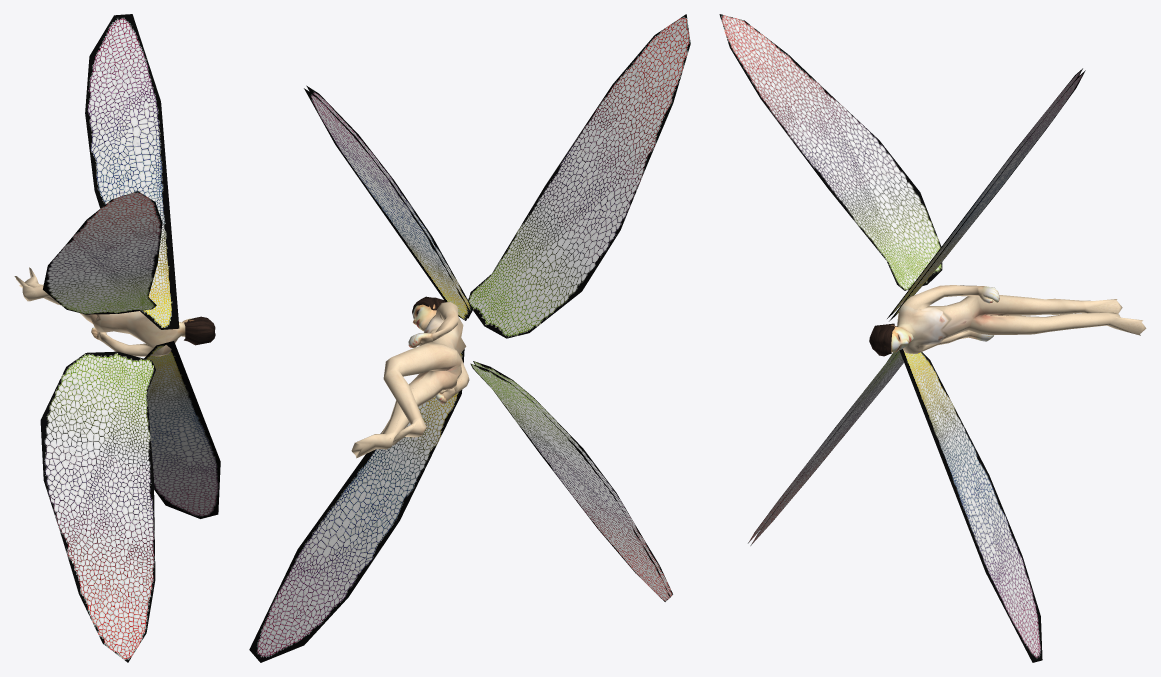
Rendered from angel_000029.obj.
The picture shows the model from 3 angles, left to right: view 1: azimuth 30°, elevation 25°; view 2: azimuth 150°, elevation 25°; view 3: azimuth 270°, elevation 25°; orthographic projection. The views are drawn at different scales.
Parts seen in each view (by area): view 1: Plane.001, Plane.003, Plane.002, Plane, body.001_omino.012, hair.003_omino.013; view 2: Plane.002, Plane, Plane.001, body.001_omino.012, Plane.003; view 3: Plane.002, Plane, body.001_omino.012, Plane.003, Plane.001, hair.003_omino.013.
Part boxes in pixels (x1,y1,x2,y2): Plane.001: [40, 351, 155, 662]; Plane.003: [85, 14, 179, 329]; Plane.002: [43, 191, 162, 314]; Plane: [144, 341, 220, 518]; body.001_omino.012: [14, 267, 193, 356]; hair.003_omino.013: [184, 316, 215, 345]; Plane.002: [468, 14, 690, 338]; Plane: [249, 349, 464, 662]; Plane.001: [470, 361, 672, 601]; body.001_omino.012: [351, 302, 469, 458]; Plane.003: [304, 85, 472, 320]; Plane.002: [719, 14, 942, 290]; Plane: [899, 349, 1042, 662]; body.001_omino.012: [884, 285, 1146, 353]; Plane.003: [887, 68, 1085, 321]; Plane.001: [748, 350, 903, 545]; hair.003_omino.013: [869, 323, 897, 356].
Bounding box in the file's own units: 3.01 × 5.99 × 4.17.
